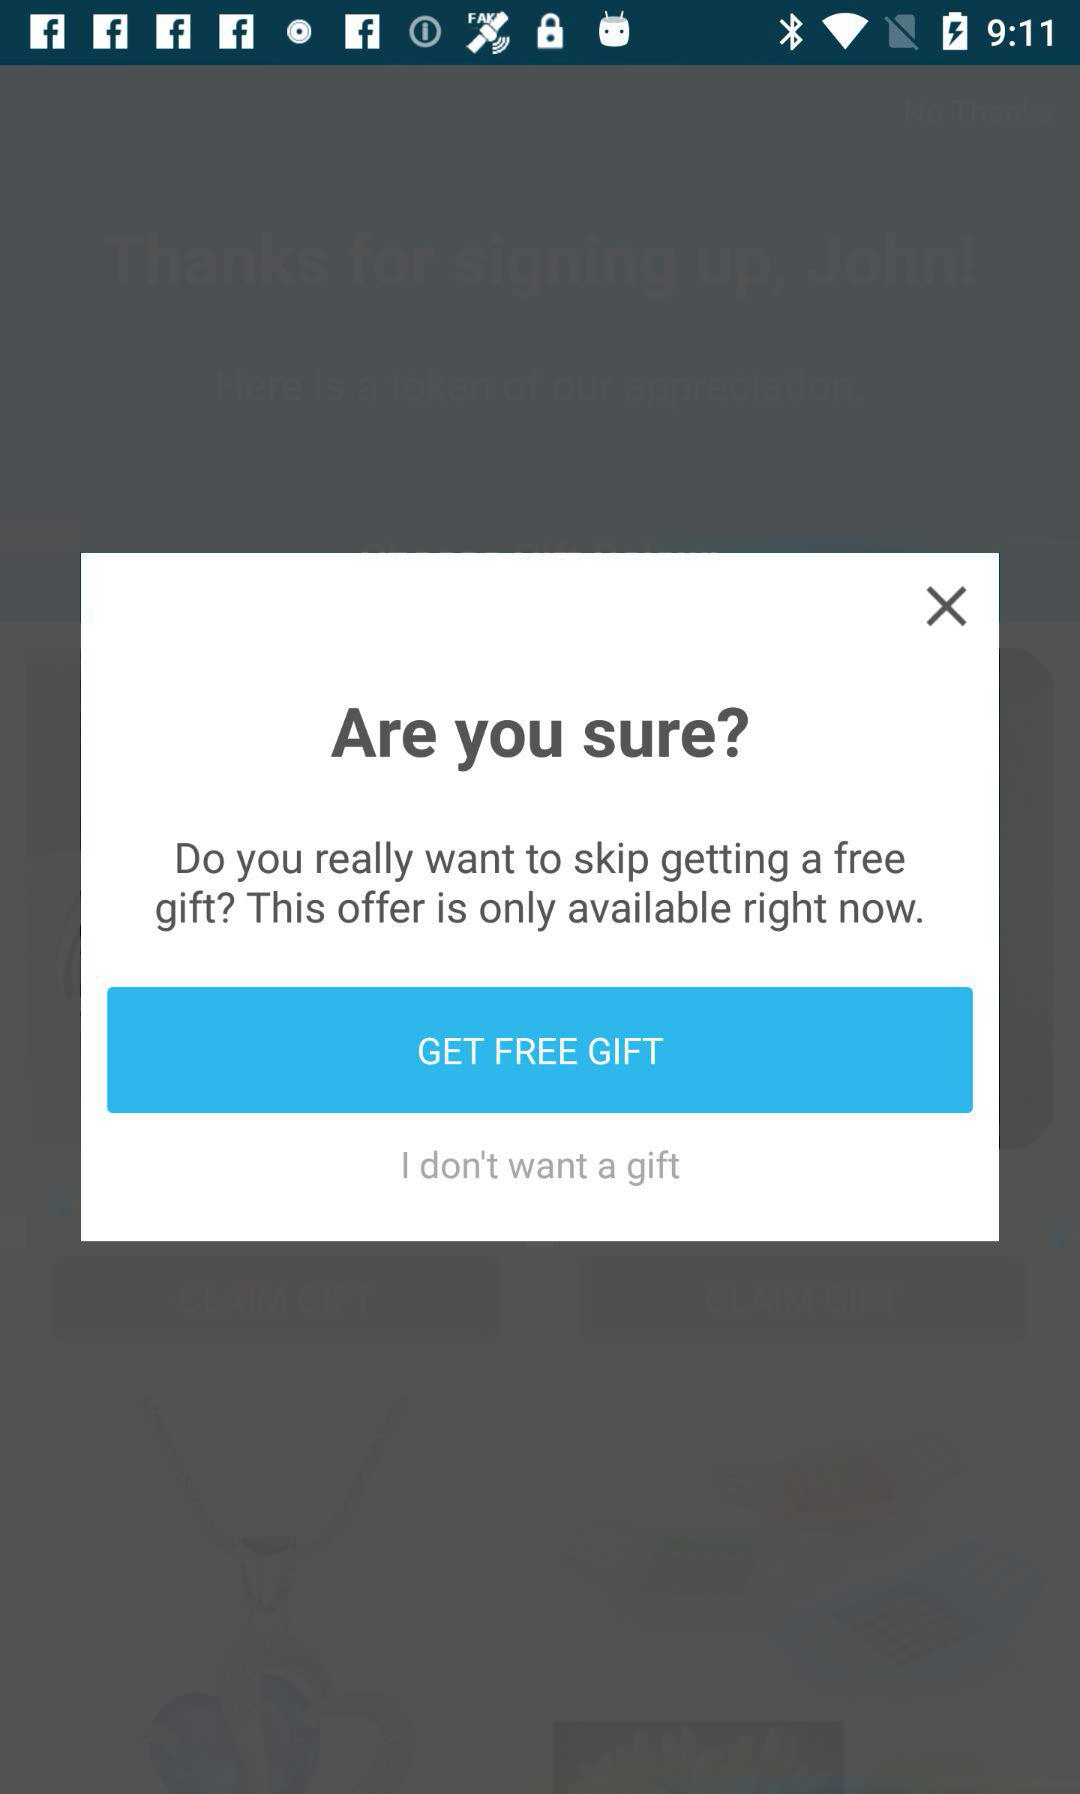Icon: (925, 586, 969, 628)
Modal: (81, 552, 1001, 1242)
Text: (156, 841, 924, 933), (331, 706, 749, 774), (402, 1149, 682, 1188)
TextButton: (108, 987, 974, 1114)
UpperTaskBar: (1, 1, 1080, 64)
